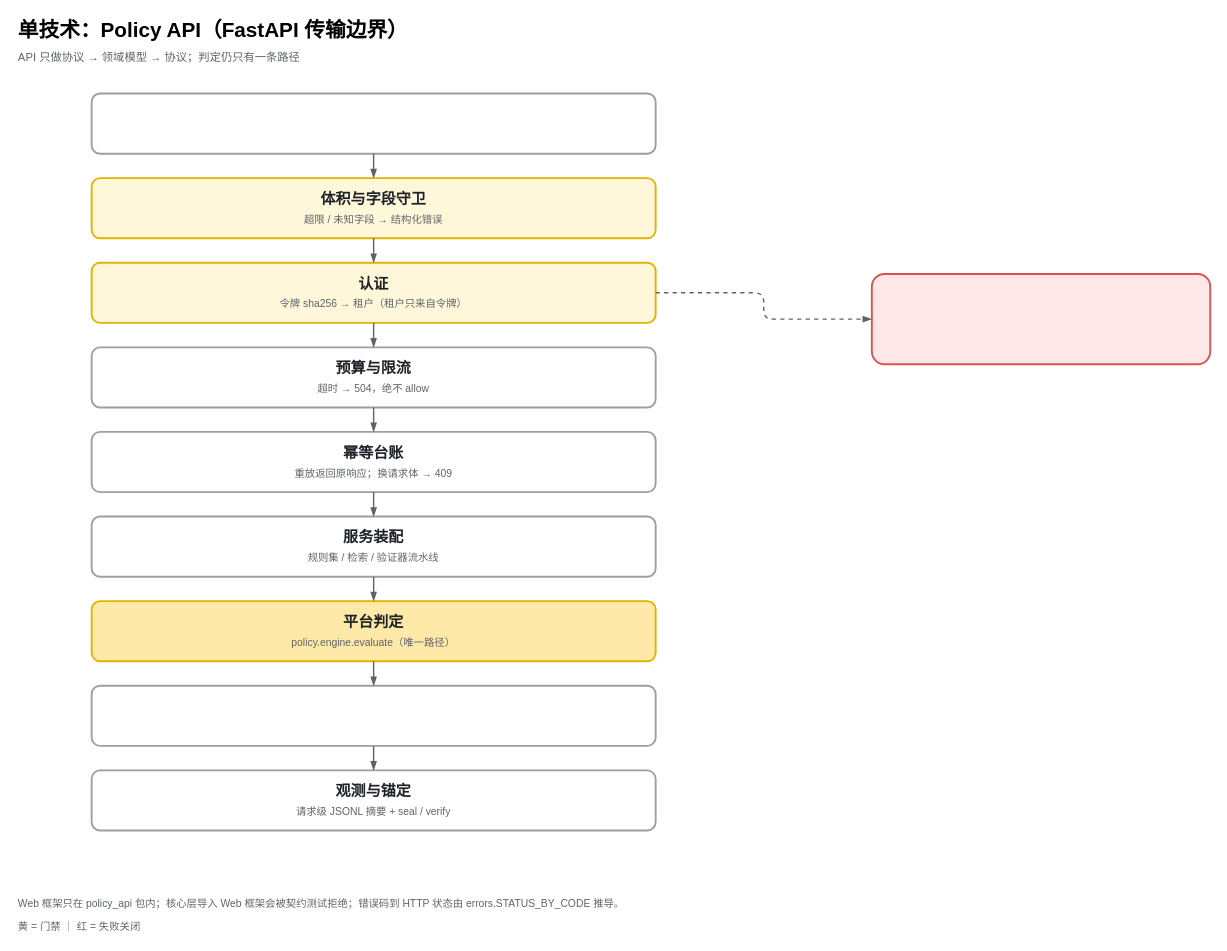
This 1227x951 diagram has some shape labels left out. Each missing label, with the box of its shape:
HTTP 请求 Bearer 令牌 + JSON DTO: (90, 92, 656, 154)
版本化响应 API_SCHEMA_VERSION 与决策协议各自演进: (90, 684, 656, 746)
结构化错误码 未认证 / 跨租户 / 依赖不可用（不泄露资源是否存在）: (870, 273, 1211, 365)
